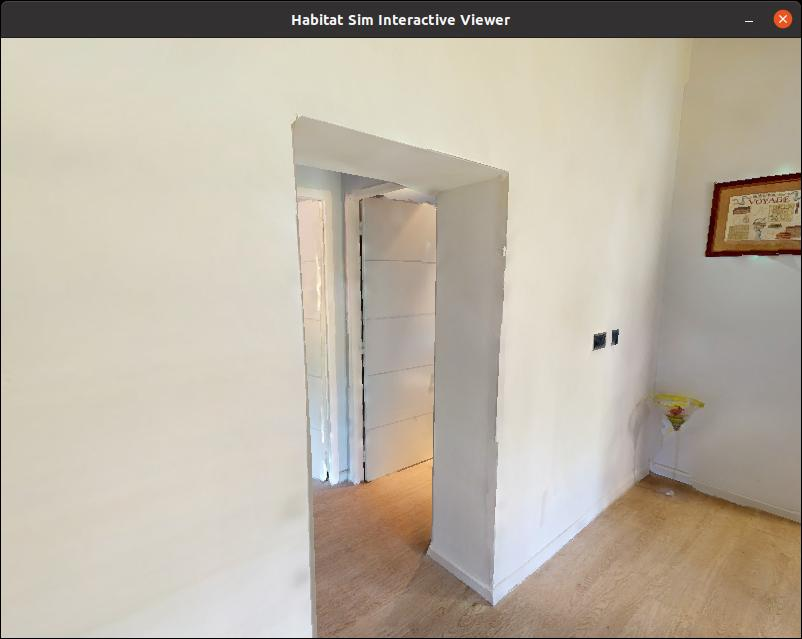door-frame: (255, 99, 522, 639)
